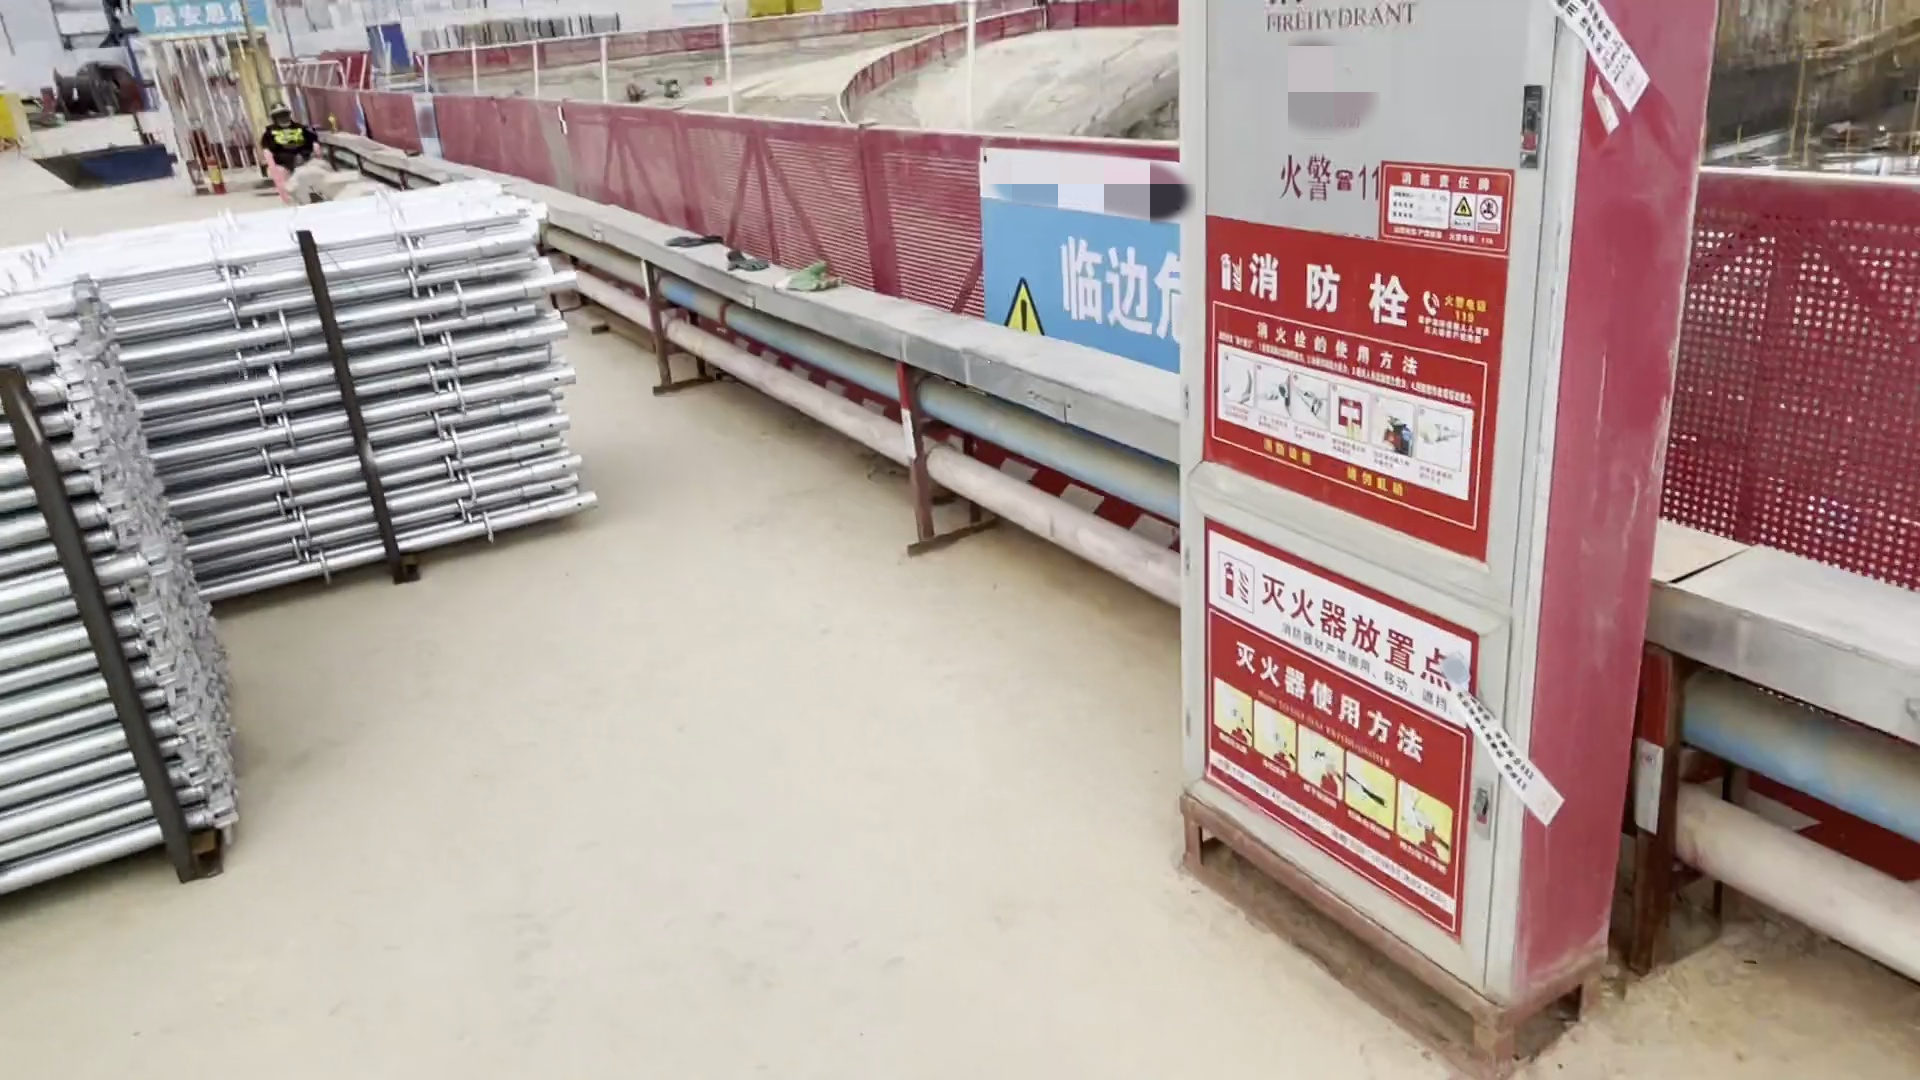scaffold: (105, 148, 587, 620), (1, 265, 265, 909)
slogan: (1207, 556, 1461, 764), (1222, 239, 1458, 400), (1029, 222, 1193, 359)
